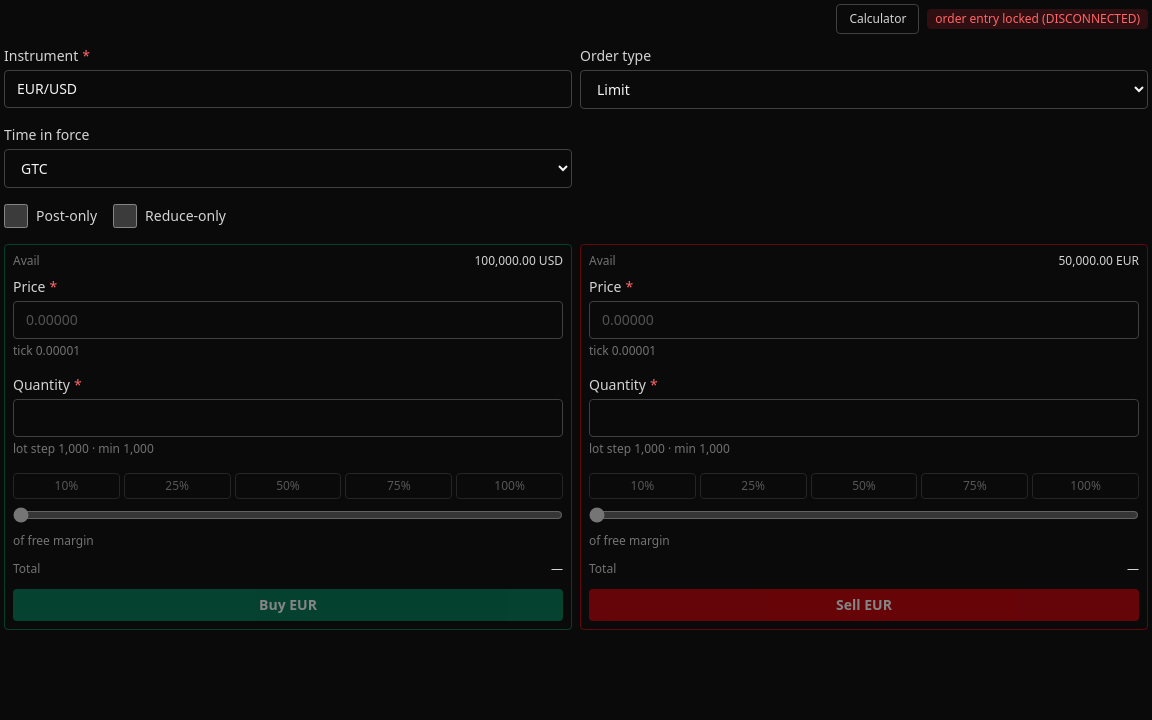
Test: AdvancedOrderPanel — Binance-style dual columns › greys the price row to "Market" for MARKET orders
Expected: the field labelled "Instrument*" holds "EUR/USD", [4, 70, 572, 108]
Select "Market" in the dropdown labelled "Order type" at (864, 90), box [580, 70, 1148, 109]
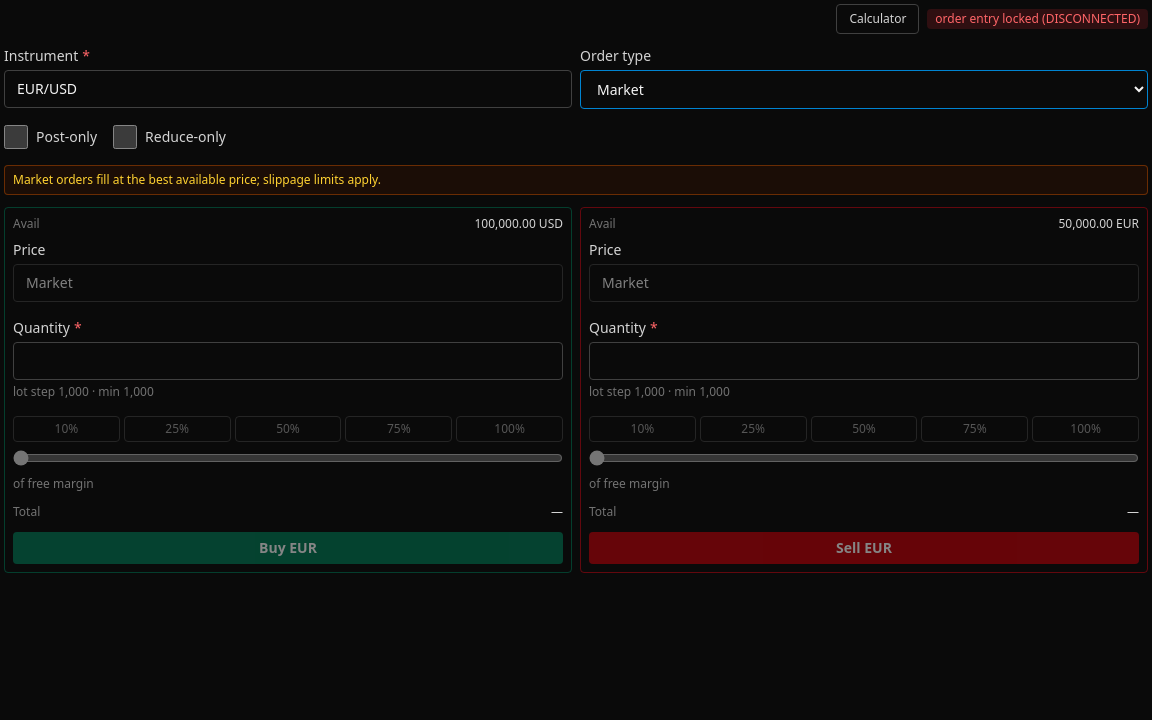
Result: the field showing "Market" below "100,000.00 USD" is disabled at [13, 264, 563, 302]
Result: the field showing "Market" below "50,000.00 EUR" is disabled at [589, 264, 1139, 302]
